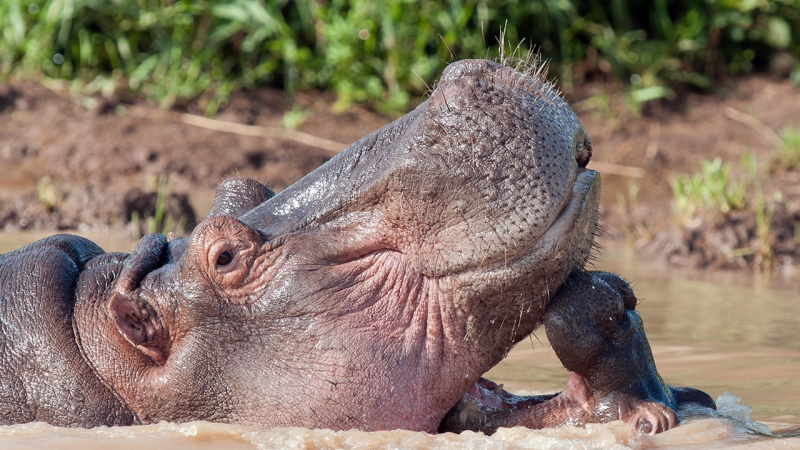hipopotamo: (1, 51, 604, 425), (414, 255, 707, 430)
